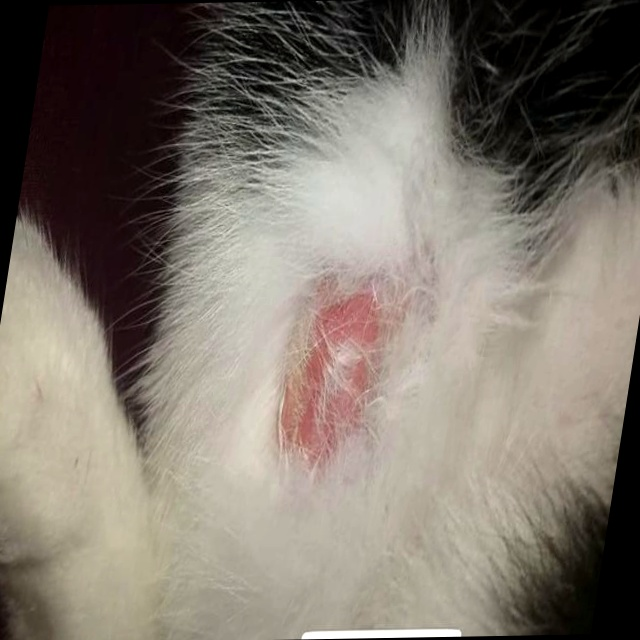lump_and_bump: (280, 291, 405, 443)
